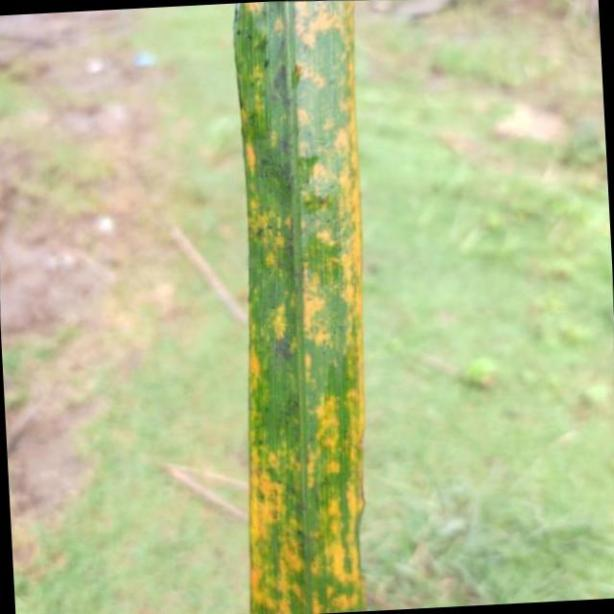Kalium: (236, 1, 366, 614)
